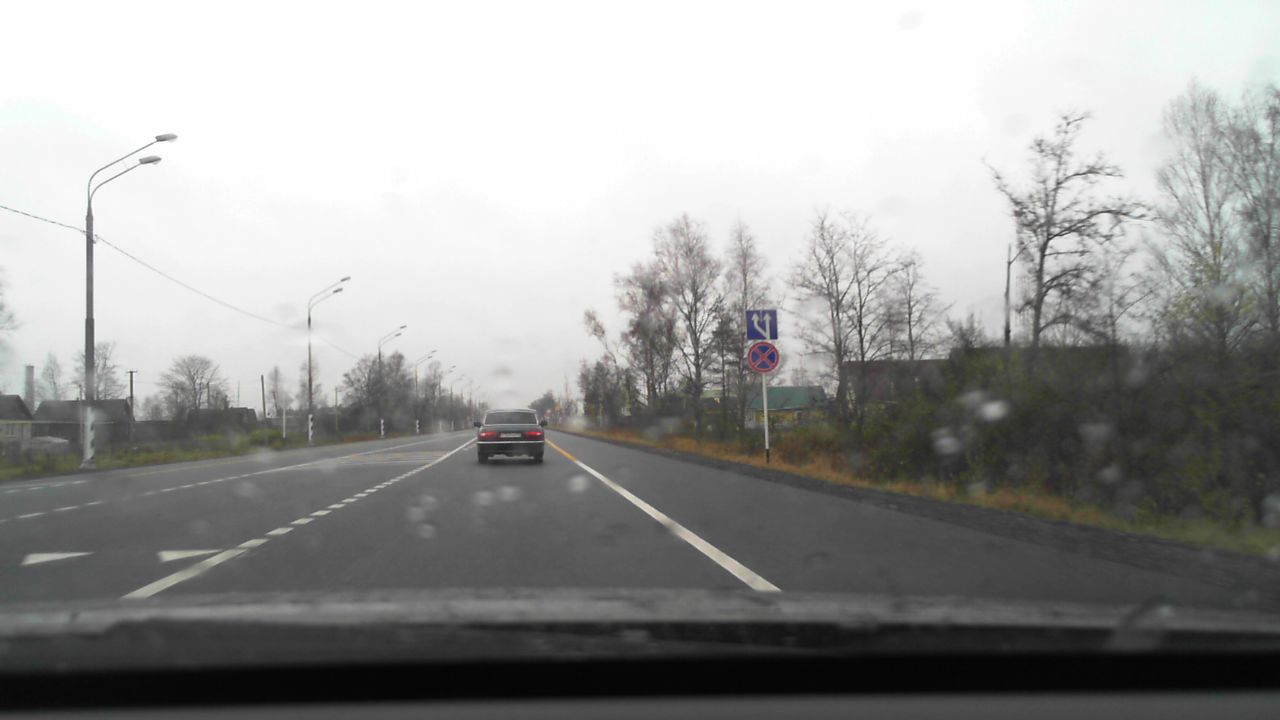No Parking: (747, 341, 779, 372)
